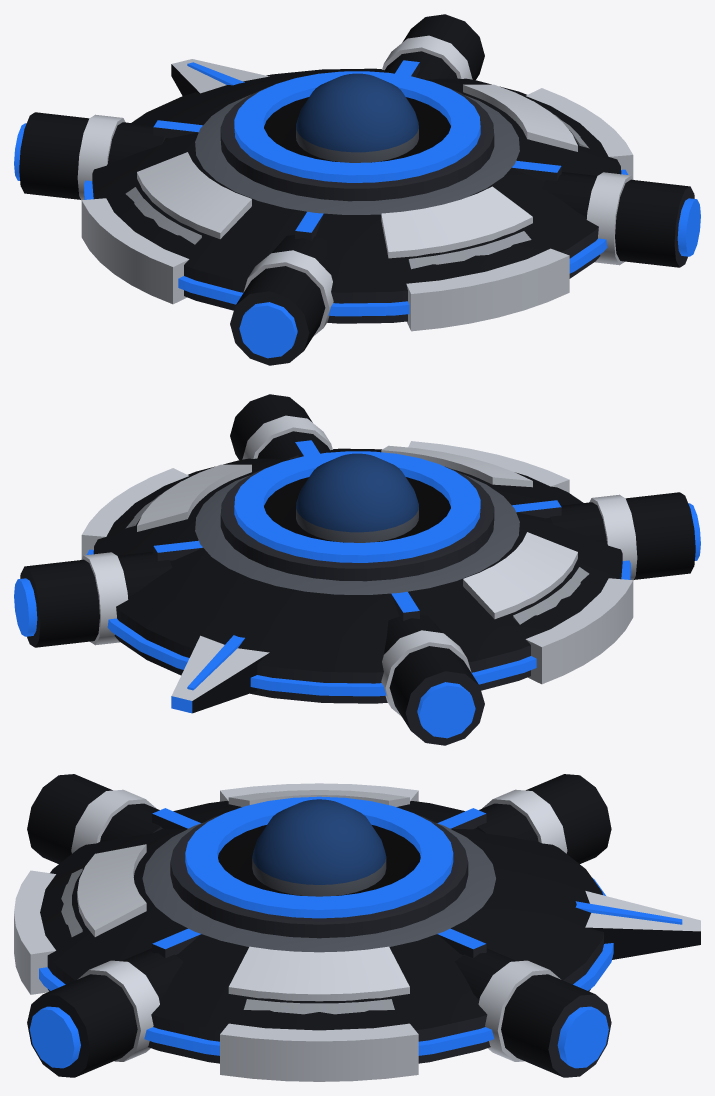
The model's file is ufo.glb.
3 views of the same model, one above another, from view 1: azimuth 30°, elevation 25°; view 2: azimuth 150°, elevation 25°; view 3: azimuth 270°, elevation 25° (orthographic). The views are drawn at different scales.
Parts seen in each view (by area): view 1: SJ_UFO; view 2: SJ_UFO; view 3: SJ_UFO.
Part boxes in pixels (<box>): SJ_UFO: <box>14,14,700,365</box>; SJ_UFO: <box>14,394,700,745</box>; SJ_UFO: <box>14,774,700,1081</box>.
Size of the model in its own units: 3.28 by 1.22 by 3.69.
Materials: 2 (2 with a texture image).
